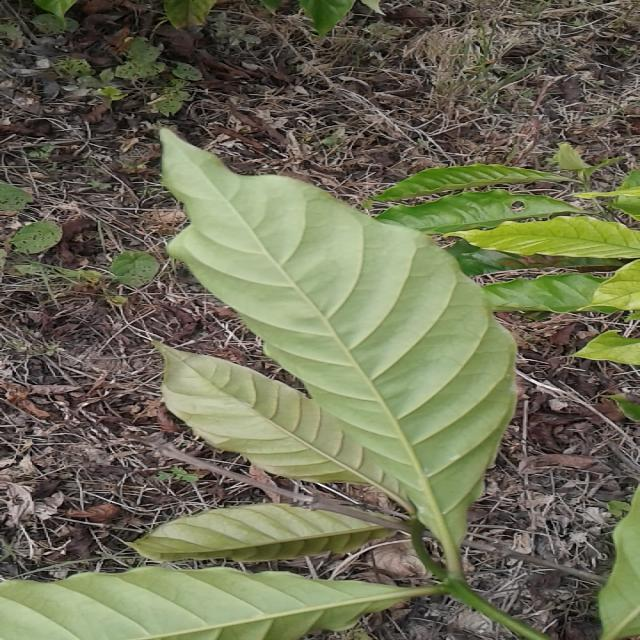Sanas: (157, 130, 518, 572)
